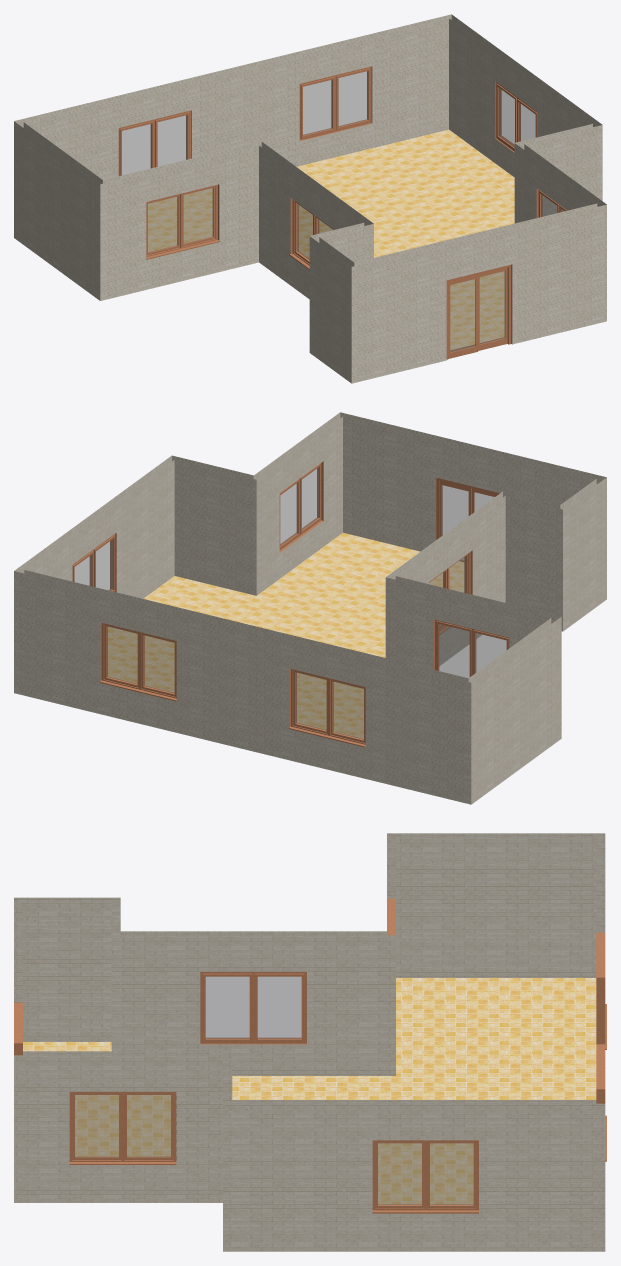
The model's file is telhado38a.glb.
3 views of the same model, one above another, from view 1: azimuth 30°, elevation 25°; view 2: azimuth 150°, elevation 25°; view 3: azimuth 270°, elevation 25° (orthographic). The views are drawn at different scales.
Parts seen in each view (by area): view 1: object 2, root, object 3, object 4; view 2: object 2, root, object 3, object 4; view 3: object 2, root, object 3, object 4.
Part boxes in pixels (x1,y1,x2,y2): object 2: [14, 14, 606, 383]; root: [148, 129, 514, 349]; object 3: [122, 71, 563, 351]; object 4: [118, 66, 566, 359]; object 2: [14, 412, 606, 804]; root: [108, 533, 464, 738]; object 3: [74, 467, 506, 739]; object 4: [72, 461, 509, 747]; object 2: [14, 833, 605, 1251]; root: [23, 978, 596, 1204]; object 3: [75, 976, 473, 1204]; object 4: [14, 898, 606, 1213].
Bounding box in the file's own units: 12.03 × 3.06 × 11.13.
Materials: 5 (3 with a texture image).
